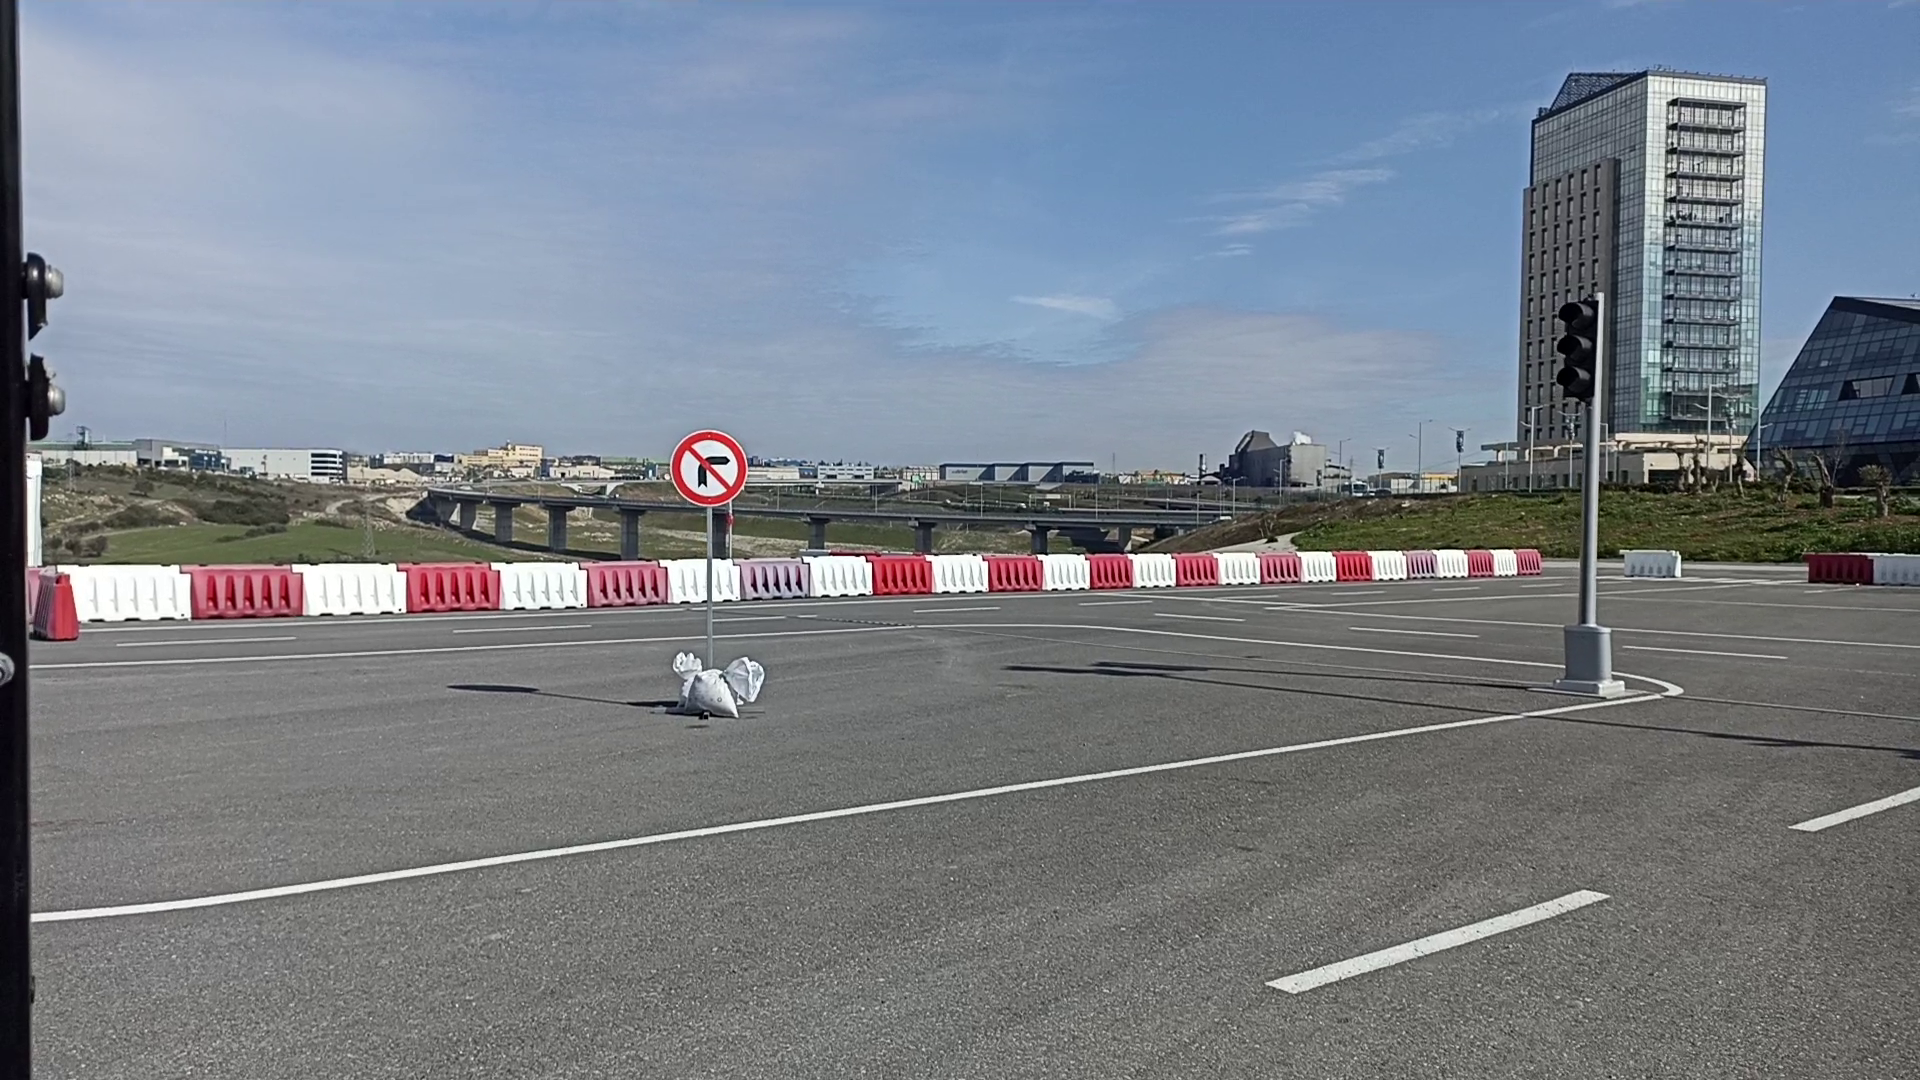noleftturn: (667, 427, 752, 508)
trafficlight: (1553, 289, 1607, 407)
